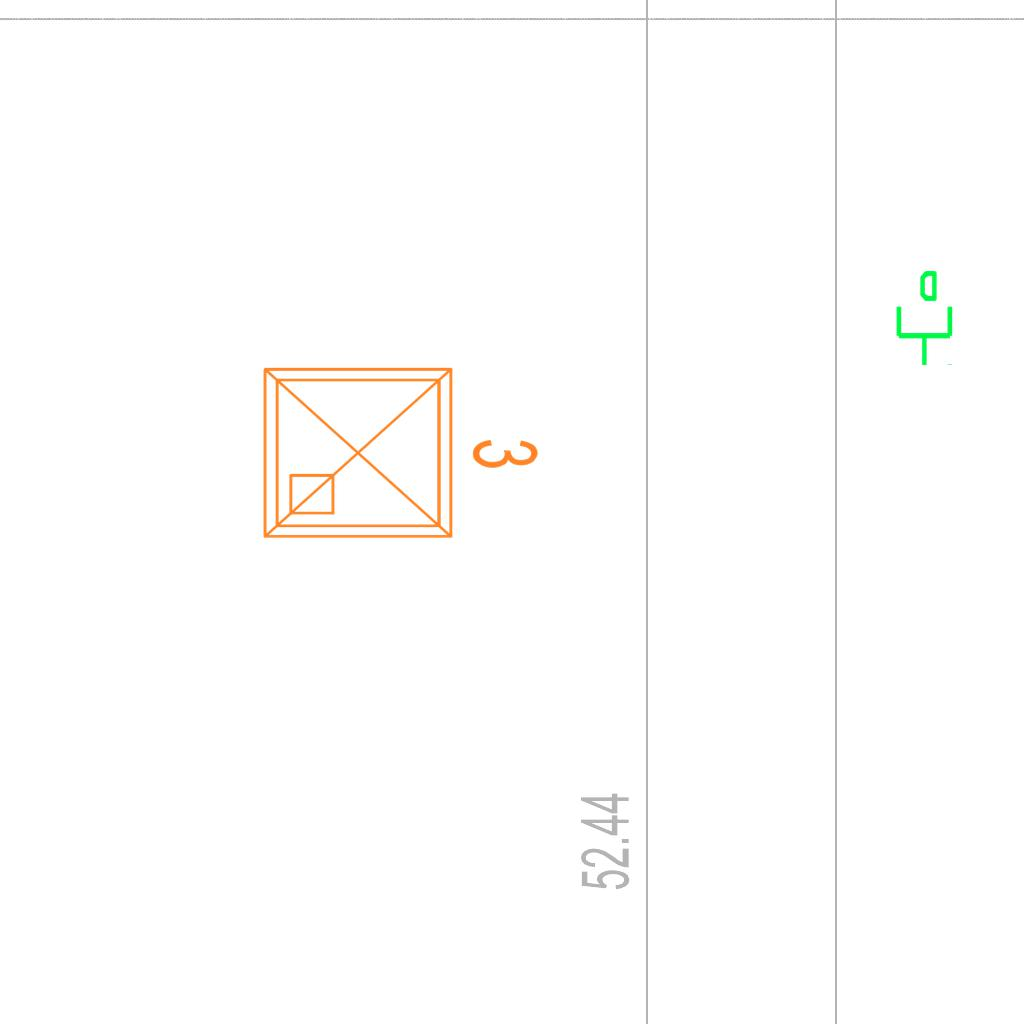Datenanschluss_einfach: (888, 268, 957, 368)
Einbaudownlights_LED_Konferenzraeume: (249, 345, 549, 553)
